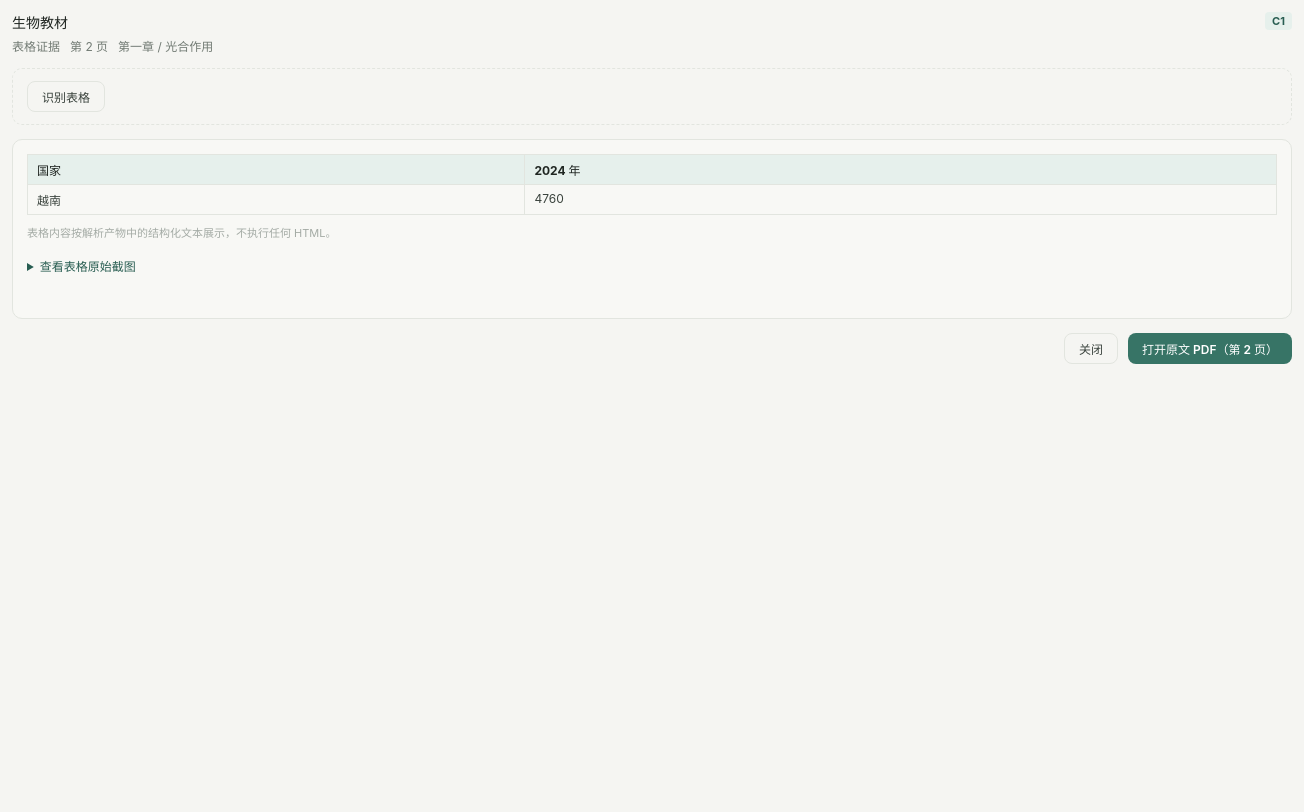
Scenario: AssetPreviewDialog › offers visual table extraction for table evidence with a retained screenshot
Click the button "识别表格".
click(66, 96)  # box 27,81 -> 105,112
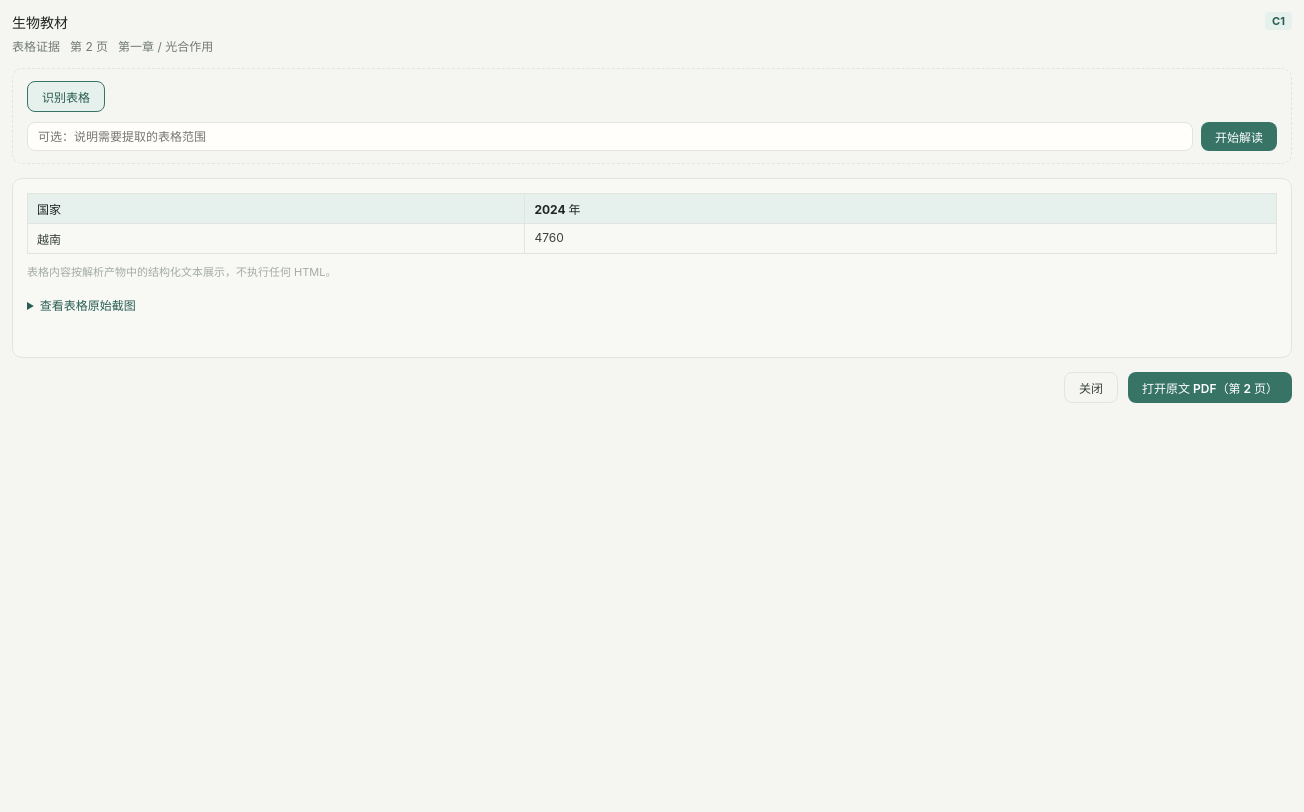
Click the button "开始解读".
click(1239, 136)  # box 1201,122 -> 1277,151
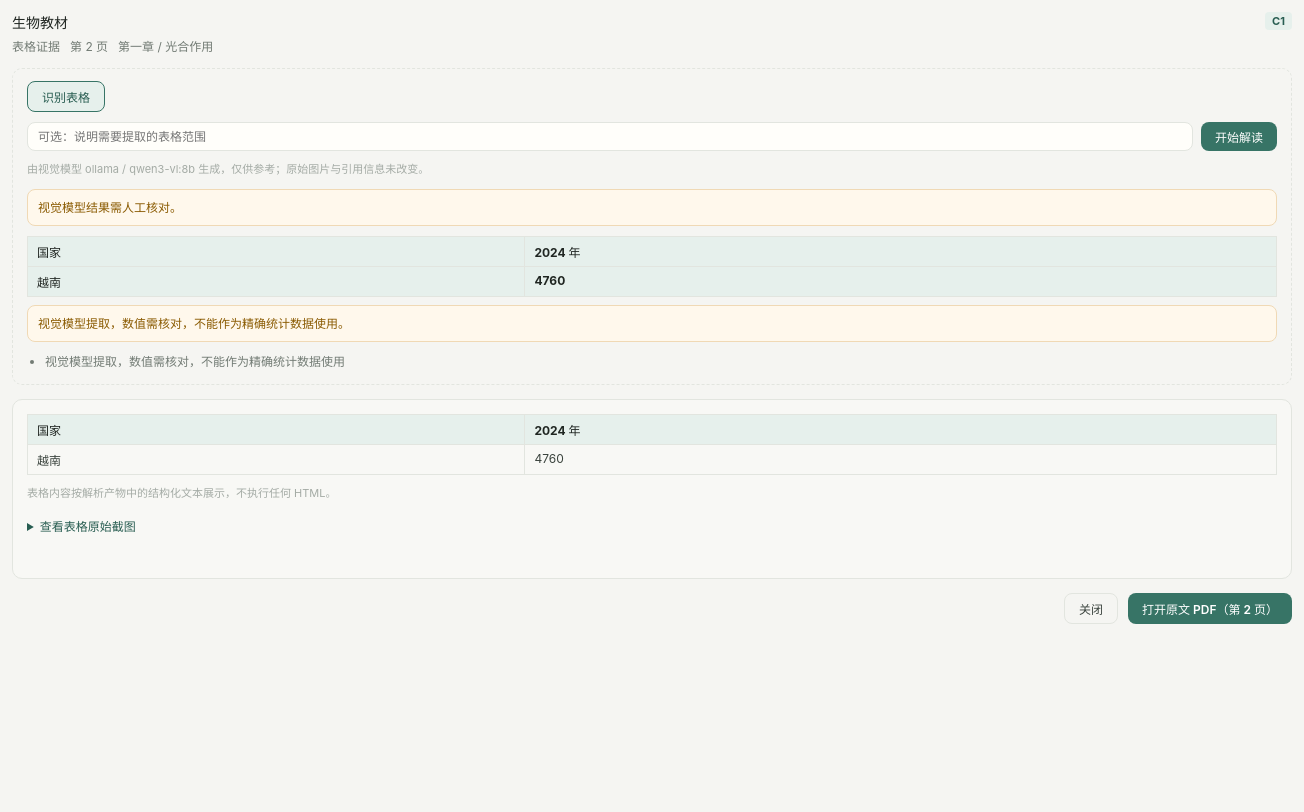
Now the text "不能作为精确统计数据使用" is shown, box 38,316 -> 350,331
Now the table with class "asset-preview__table" below "视觉模型结果需人工核对。" is shown, box 27,236 -> 1277,297
